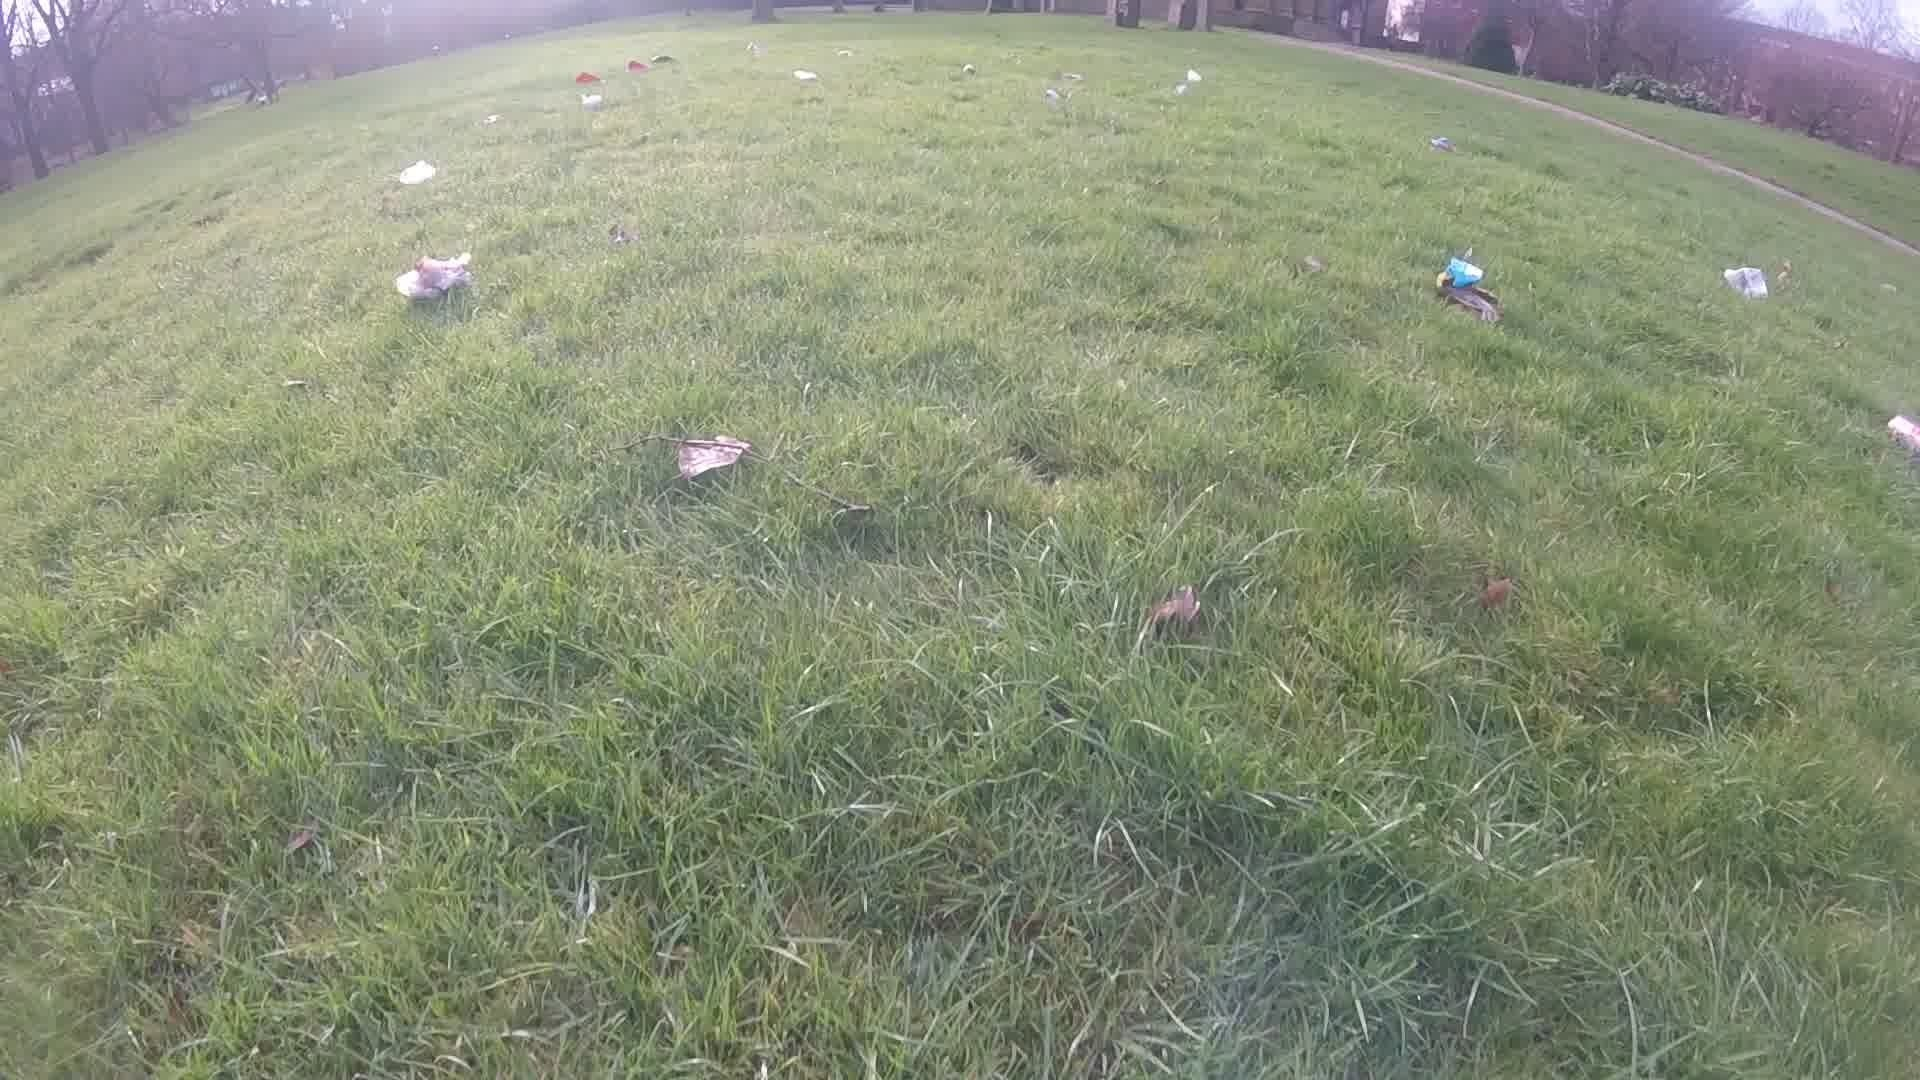litter: (1433, 261, 1502, 326), (396, 251, 469, 301), (1720, 266, 1766, 297), (1883, 417, 1920, 454), (396, 160, 438, 185), (1431, 136, 1458, 154), (572, 73, 604, 84), (1040, 88, 1062, 103), (793, 70, 818, 82), (624, 61, 649, 73), (579, 94, 603, 105), (1182, 73, 1203, 84), (833, 47, 852, 61), (645, 54, 675, 62), (742, 40, 758, 51), (481, 113, 501, 123), (1174, 82, 1187, 94), (961, 61, 975, 69)
